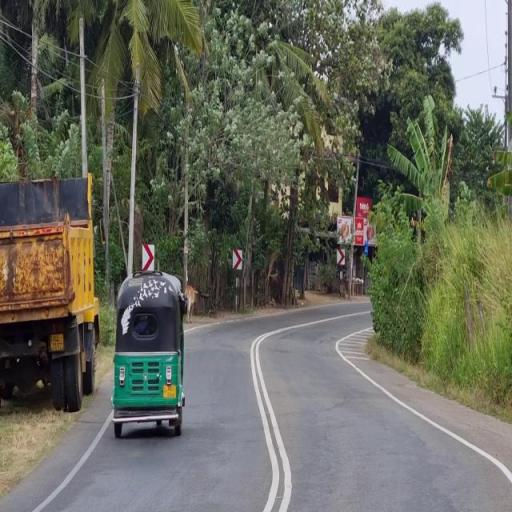double_white_line: (248, 326, 290, 512), (32, 412, 109, 510), (0, 14, 35, 64)
